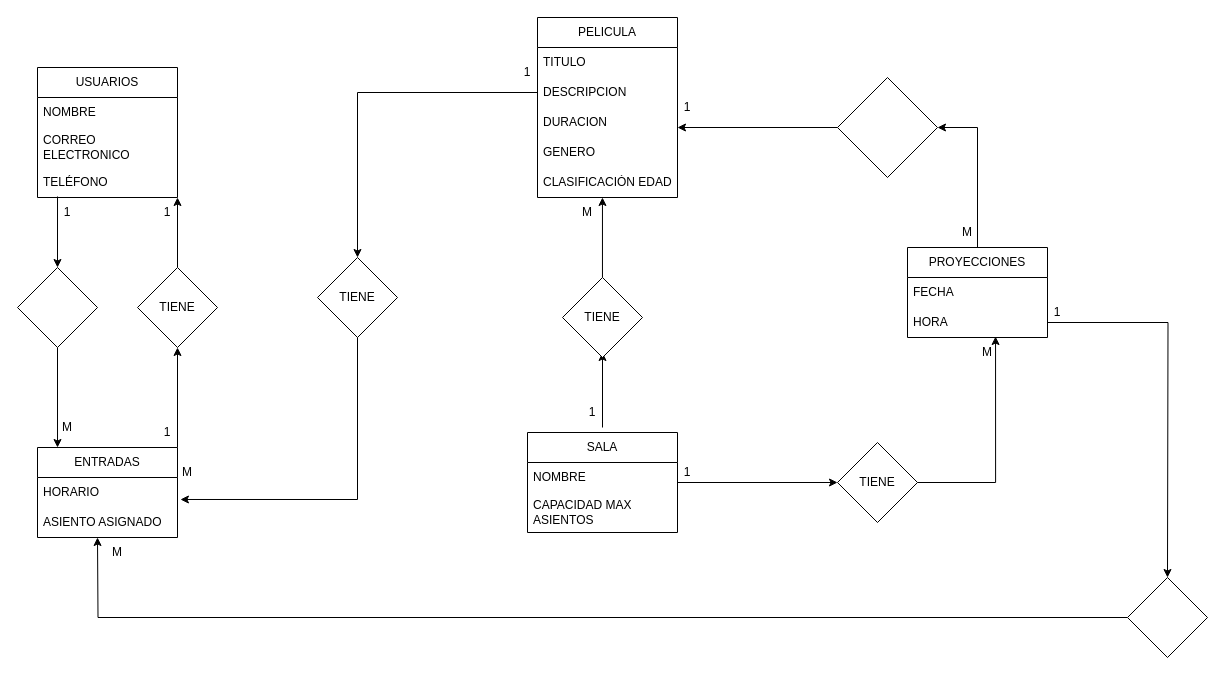
The diagram is 1225 pixels wide and 675 high, and some of its shapes have lost their labels. The shapes that lost their labels are listed below. From the top down, each one's centre as x and y in pixels, then its label:
At (887,127): "TIENEN ASOCIADA".
At (57,307): "COMPRO".
At (1167,617): "CONTIENE".
